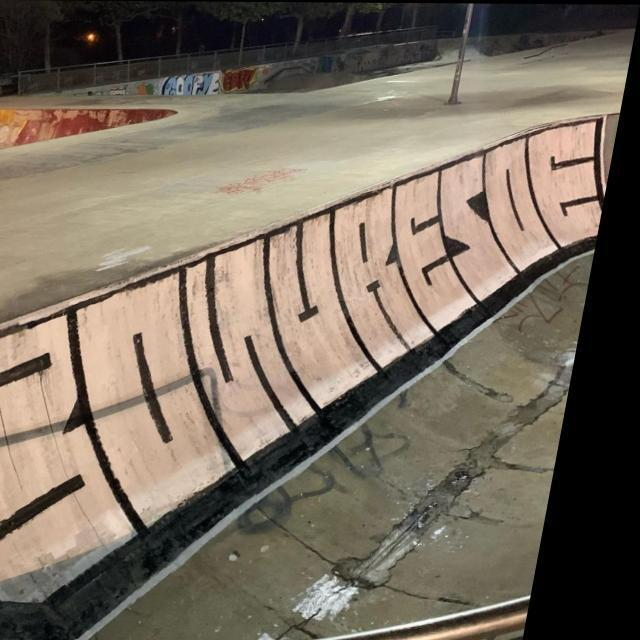-: (0, 105, 625, 640), (165, 68, 228, 100), (227, 64, 260, 90)
